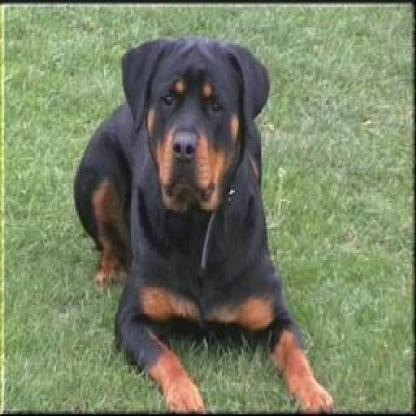Rottweiler: (71, 30, 333, 412)
